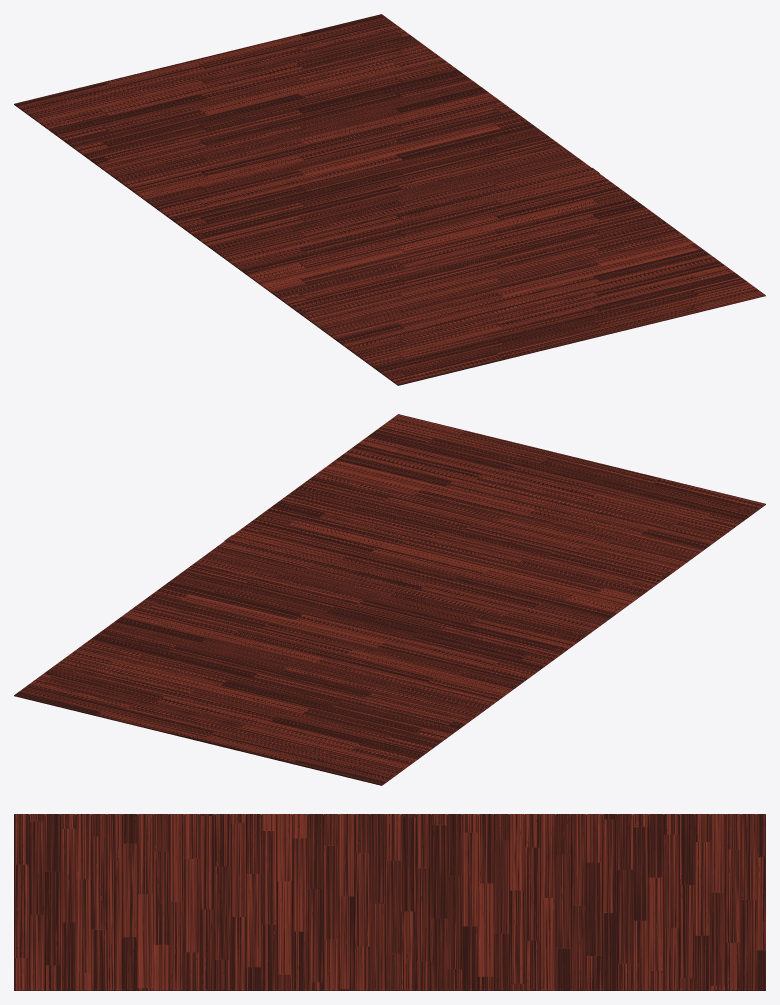
File: floor_house.obj
The picture shows the model from 3 angles, top to bottom: view 1: azimuth 30°, elevation 25°; view 2: azimuth 150°, elevation 25°; view 3: azimuth 270°, elevation 25°; orthographic projection. The views are drawn at different scales.
Parts seen in each view (by area): view 1: Plane001; view 2: Plane001; view 3: Plane001.
Boxes of the visible parts, bbox=[...] form: Plane001: bbox=[14, 14, 765, 385]; Plane001: bbox=[14, 414, 765, 785]; Plane001: bbox=[14, 814, 765, 990].
Bounding box in the file's own units: 2.39 × 0.008 × 4.32.
Materials: 1 (1 with a texture image).
